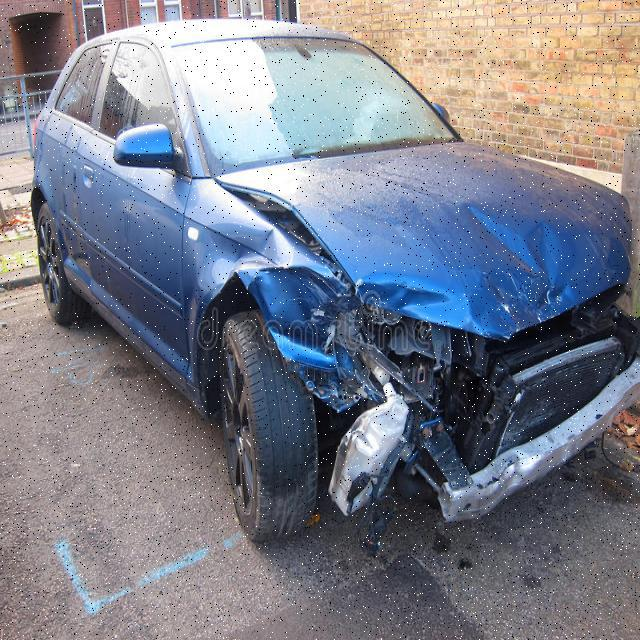bonnet-dent: (347, 140, 640, 324)
fender-dent: (190, 231, 340, 391)
